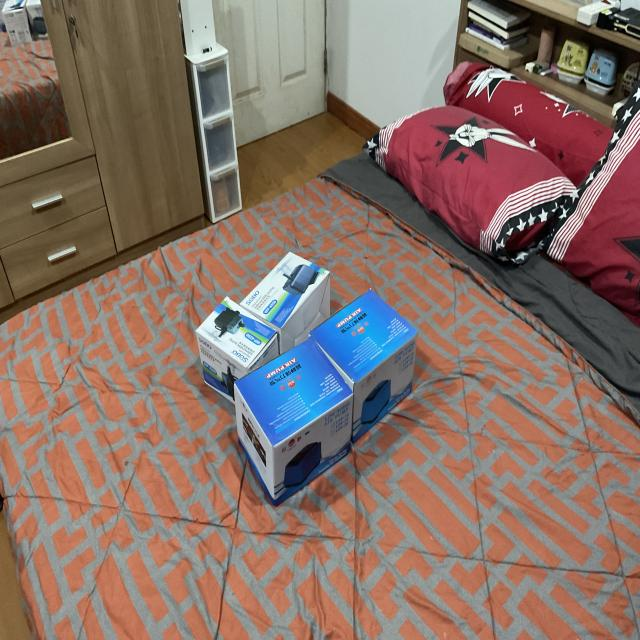SOBO_WP_4200: (235, 225, 332, 334), (193, 291, 280, 396)
YAMANO_LPP_20: (227, 330, 356, 502), (303, 275, 433, 440)
